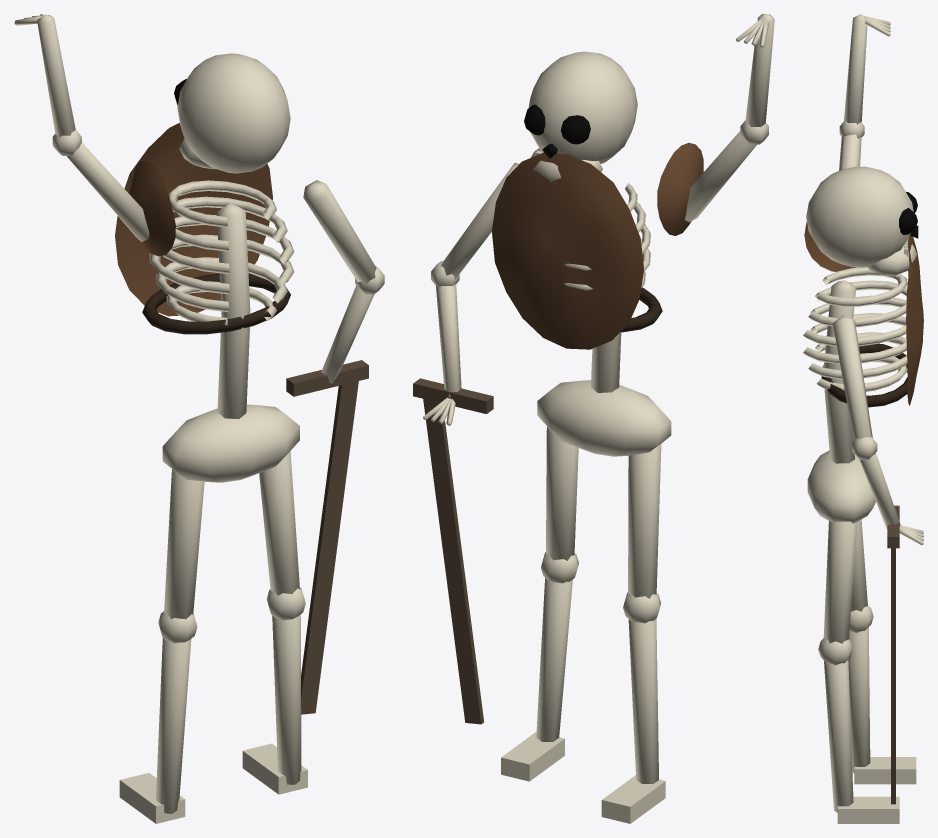
File: skeleton_hang_armor.glb
3 views of the same model, side by side, from view 1: azimuth 30°, elevation 25°; view 2: azimuth 150°, elevation 25°; view 3: azimuth 270°, elevation 25° (orthographic). The views are drawn at different scales.
Visible parts, largest first — view 1: Bones; view 2: Bones; view 3: Bones.
Part boxes in pixels (x1,y1,x2,y2): Bones: (14,14,384,823); Bones: (413,14,774,823); Bones: (803,14,923,823).
Bounding box in the file's own units: 0.8455 × 1.9 × 0.2919.
